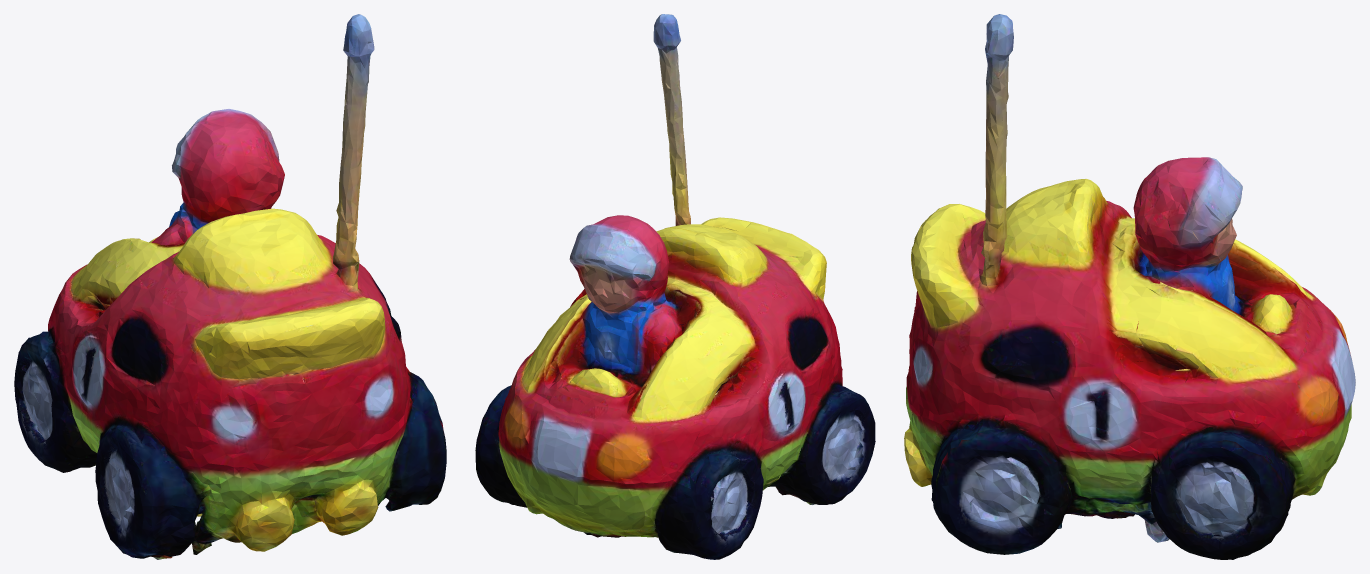
The model's file is remotecar.glb.
3 views of the same model, side by side, from view 1: azimuth 30°, elevation 25°; view 2: azimuth 150°, elevation 25°; view 3: azimuth 270°, elevation 25° (orthographic). The views are drawn at different scales.
Parts seen in each view (by area): view 1: ObjectToExport; view 2: ObjectToExport; view 3: ObjectToExport.
Boxes of the visible parts, x1=… form: ObjectToExport: x1=14, y1=14, x2=446, y2=559; ObjectToExport: x1=475, y1=14, x2=875, y2=559; ObjectToExport: x1=904, y1=14, x2=1355, y2=559.
Bounding box in the file's own units: 0.3177 × 0.5001 × 0.3785.
1 material, 1 textured.
